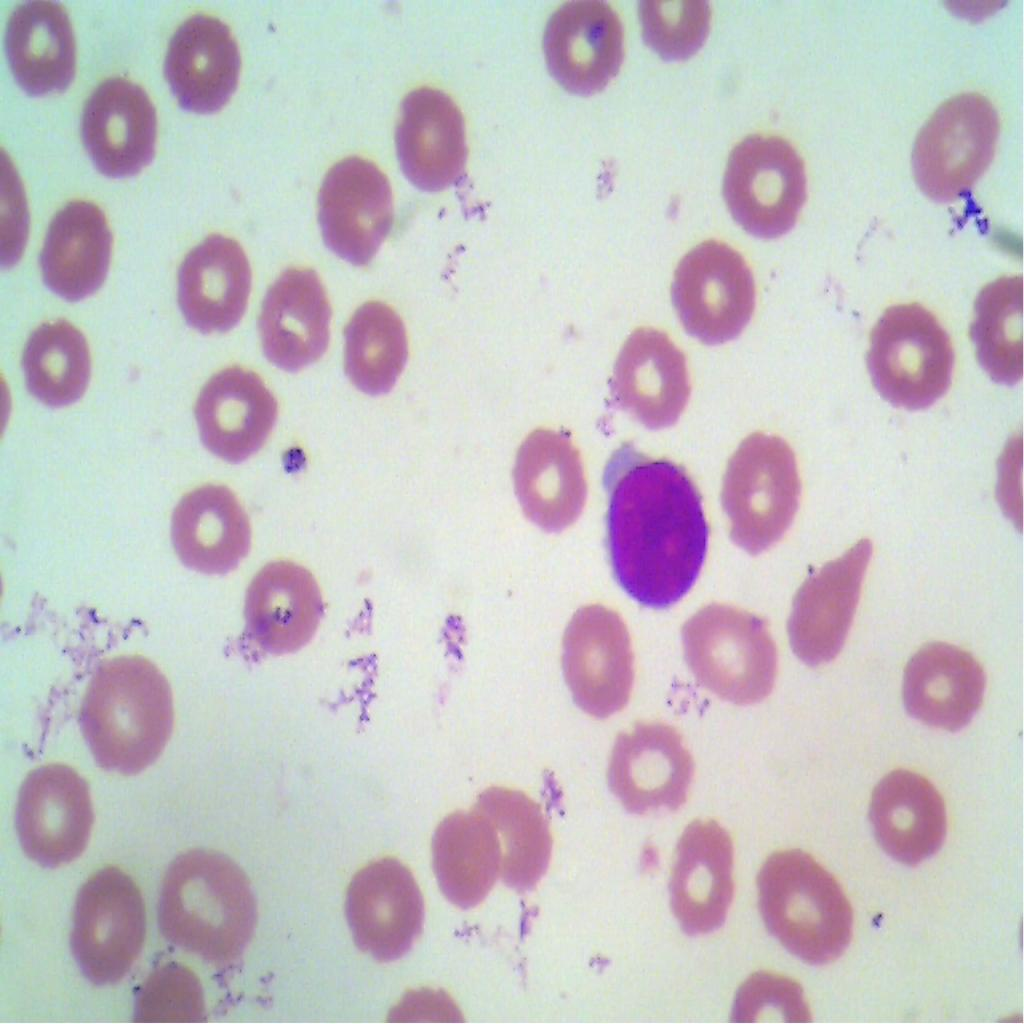Eritrosit: (70, 644, 182, 785), (676, 607, 791, 724), (706, 431, 809, 558), (855, 297, 961, 414), (155, 851, 264, 964), (756, 844, 855, 968), (788, 538, 882, 664), (892, 628, 1002, 735), (161, 0, 248, 132), (64, 859, 150, 992), (666, 801, 748, 938), (669, 227, 759, 348), (304, 150, 396, 268), (78, 68, 166, 189), (558, 588, 638, 719), (719, 132, 814, 241), (13, 751, 99, 871), (344, 848, 429, 967), (912, 88, 1002, 200), (526, 0, 623, 103), (233, 554, 323, 664), (196, 358, 282, 472), (334, 291, 419, 404), (606, 319, 694, 426), (168, 470, 256, 577), (393, 84, 475, 198), (870, 765, 960, 868), (511, 420, 589, 536), (258, 262, 340, 372), (170, 231, 253, 338), (18, 310, 96, 420), (1, 0, 84, 103), (475, 781, 554, 887), (606, 717, 696, 808), (41, 197, 116, 299), (433, 807, 499, 911), (633, 0, 712, 70)
Limfoblast: (608, 458, 713, 614)
Platelet: (278, 442, 306, 476)
